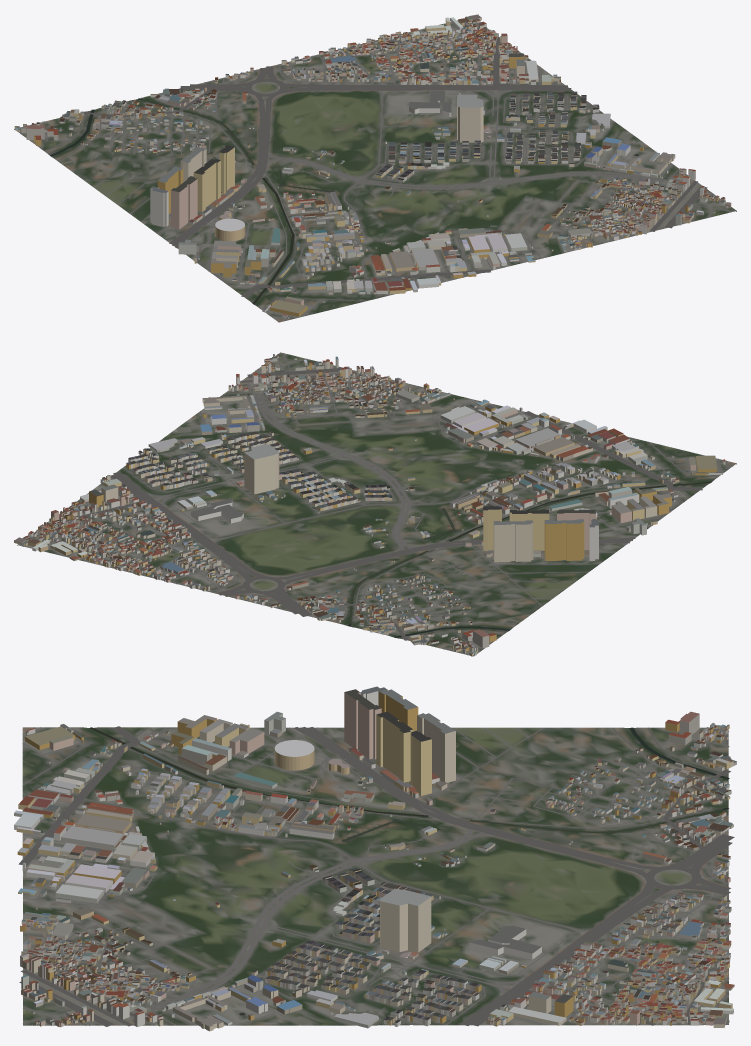
3 views of the same model, one above another, from view 1: azimuth 30°, elevation 25°; view 2: azimuth 150°, elevation 25°; view 3: azimuth 270°, elevation 25° (orthographic). The views are drawn at different scales.
Parts seen in each view (by area): view 1: ground, buildings, roads, water; view 2: ground, buildings, roads, water; view 3: ground, buildings, roads, water.
Part boxes in pixels (x1,y1,x2,y2): ground: (14, 20, 736, 322); buildings: (14, 14, 731, 318); roads: (19, 27, 733, 319); water: (50, 67, 638, 304); ground: (17, 352, 736, 656); buildings: (14, 354, 725, 656); roads: (17, 353, 732, 655); water: (171, 481, 711, 637); ground: (22, 727, 728, 1025); buildings: (14, 686, 736, 1031); roads: (18, 726, 734, 1026); water: (89, 727, 729, 1015).
Size of the model in its own units: 1442 by 123 by 1436.
